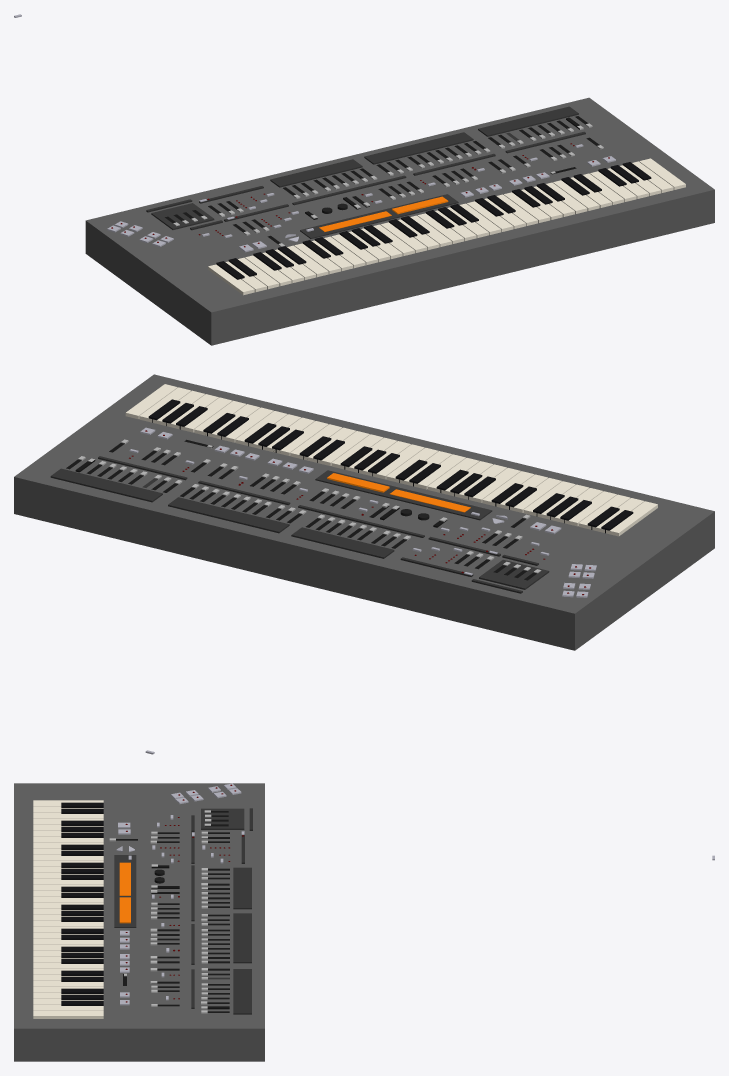
The picture shows the model from 3 angles, top to bottom: view 1: azimuth 30°, elevation 25°; view 2: azimuth 150°, elevation 25°; view 3: azimuth 270°, elevation 25°; orthographic projection. The views are drawn at different scales.
Visible parts, largest first — view 1: synth_body.1, panel1.1, panel3, panel3.1, panel2, panel1; view 2: synth_body.1, panel1.1, panel3, panel3.1, panel2, panel1, Key_C1, Key_C6; view 3: synth_body.1, panel1.1, panel3, panel3.1, panel1, panel2, Key_C6.
Part boxes in pixels (x1,y1,x2,y2): synth_body.1: (85,97,714,345); panel1.1: (300,194,458,238); panel3: (364,132,473,164); panel3.1: (478,106,578,136); panel2: (270,159,362,187); panel1: (151,203,214,229); synth_body.1: (14,374,714,650); panel1.1: (315,470,492,520); panel3: (168,497,289,533); panel3.1: (50,468,162,502); panel2: (291,527,394,558); panel1: (479,559,549,589); Key_C1: (606,501,657,536); Key_C6: (125,384,177,419); synth_body.1: (14,783,264,1061); panel1.1: (114,855,136,927); panel3: (233,913,251,963); panel3.1: (233,969,251,1014); panel1: (201,808,244,829); panel2: (233,867,251,909); Key_C6: (33,1010,103,1018).
Size of what is drawn, in the model's own units: 7.96 by 0.574 by 9.61.
